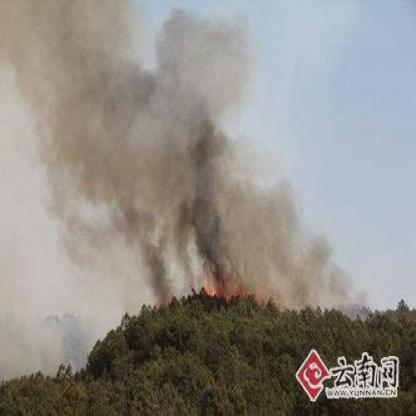fire: (202, 277, 218, 298)
smoke: (160, 42, 257, 272), (35, 10, 162, 175), (120, 182, 174, 296), (262, 191, 314, 289)
